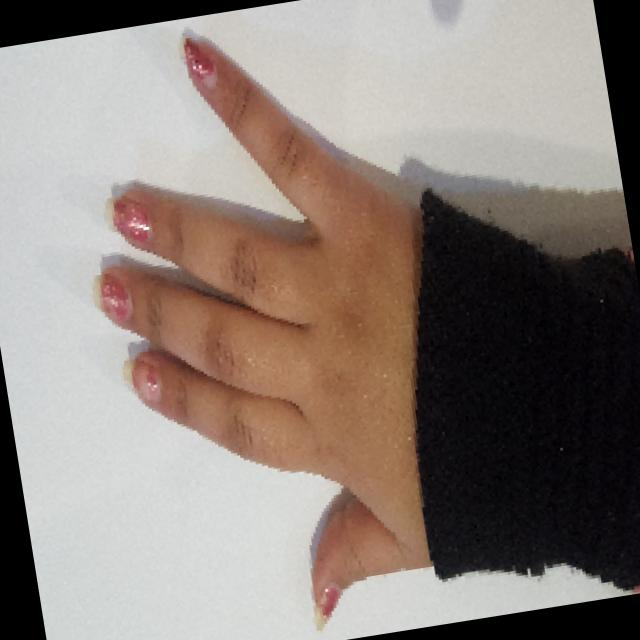Nail: (104, 197, 151, 241), (92, 274, 132, 320), (180, 37, 218, 85), (122, 357, 161, 401), (314, 584, 342, 630)
